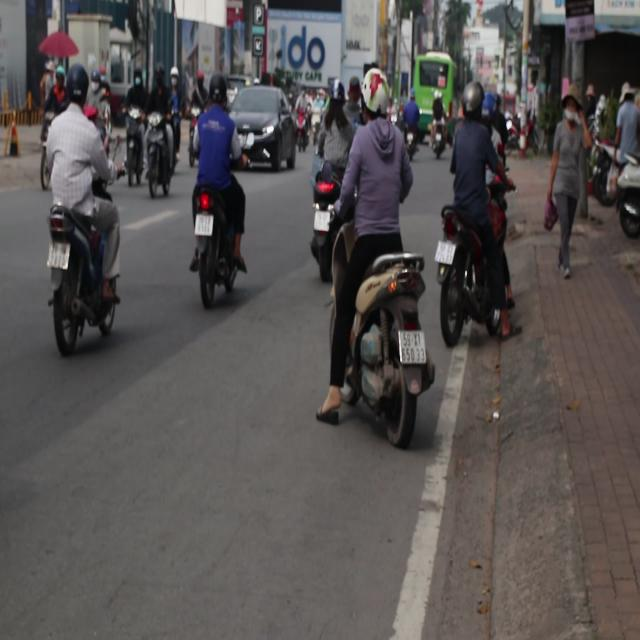bus: (411, 50, 456, 123)
car: (229, 88, 299, 174), (208, 74, 252, 110)
motorbike: (301, 253, 419, 444), (432, 185, 525, 369), (46, 197, 132, 347), (175, 180, 245, 306), (310, 155, 341, 282), (112, 100, 150, 191), (84, 104, 113, 183), (589, 138, 619, 206), (145, 108, 169, 186), (184, 104, 204, 183), (431, 118, 450, 159), (299, 100, 312, 148), (403, 134, 422, 158)
